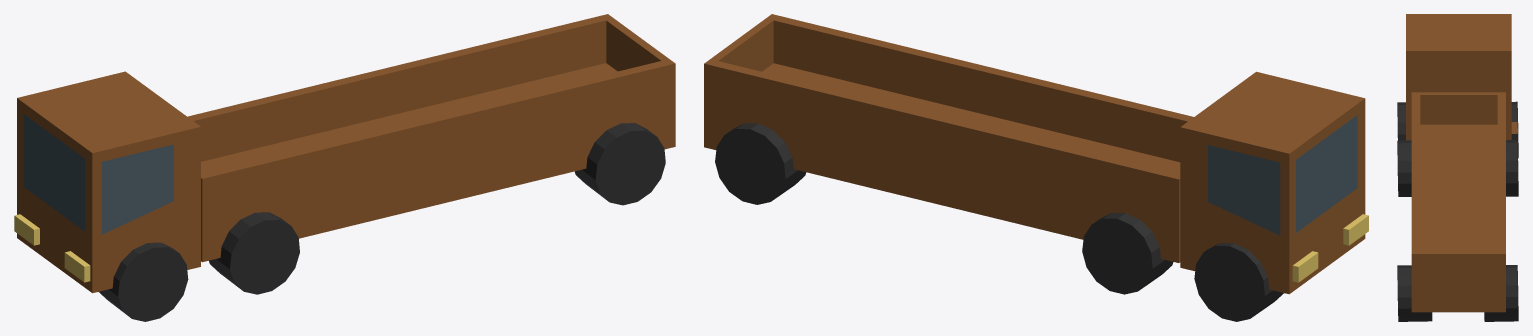
The model's file is LKW.glb.
3 renders of one model, left to right at view 1: azimuth 30°, elevation 25°; view 2: azimuth 150°, elevation 25°; view 3: azimuth 270°, elevation 25°, orthographic. The views are drawn at different scales.
Visible parts, largest first — view 1: Cylinder; view 2: Cylinder; view 3: Cylinder.
Part boxes in pixels (x1,y1,x2,y2): Cylinder: (14, 14, 675, 321); Cylinder: (704, 14, 1368, 321); Cylinder: (1397, 14, 1518, 321).
Size of the model in its own units: 10.61 by 3.02 by 2.68.
